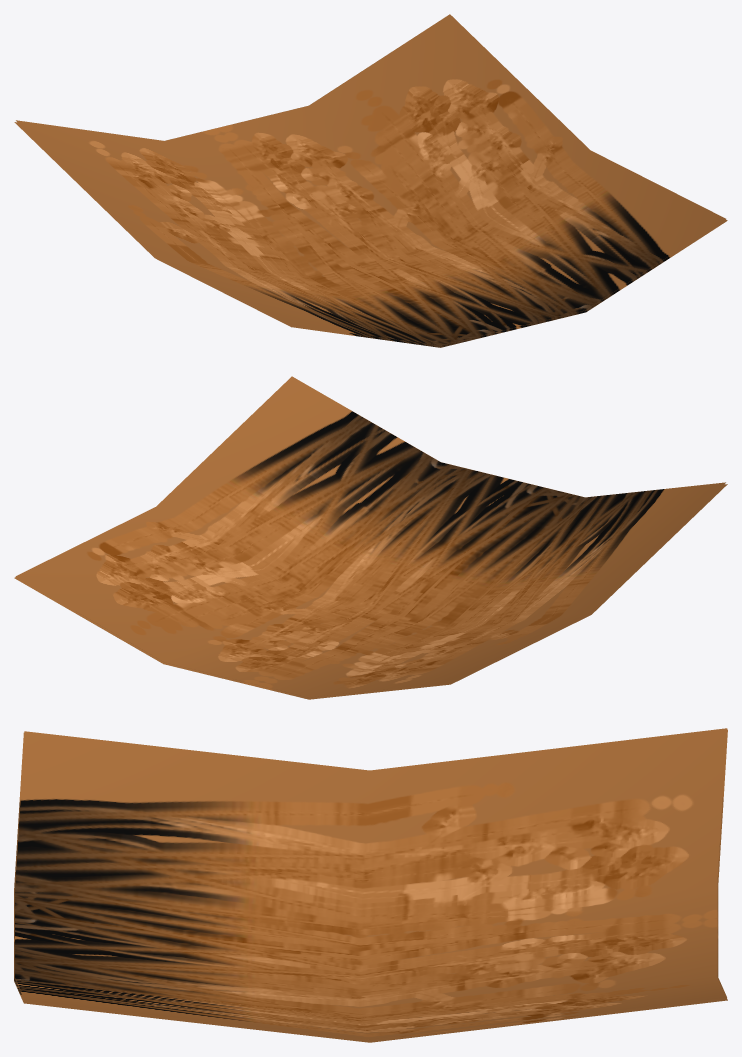
The model's file is grass_3.fbx.
3 renders of one model, top to bottom at view 1: azimuth 30°, elevation 25°; view 2: azimuth 150°, elevation 25°; view 3: azimuth 270°, elevation 25°, orthographic. The views are drawn at different scales.
Parts seen in each view (by area): view 1: grass_3; view 2: grass_3; view 3: grass_3.
Part boxes in pixels (left/top/right/bottom): grass_3: left=14, top=14, right=727, bottom=347; grass_3: left=14, top=376, right=727, bottom=699; grass_3: left=14, top=728, right=727, bottom=1042.
Size of the model in its own units: 0.2632 by 0.0509 by 0.2933.
